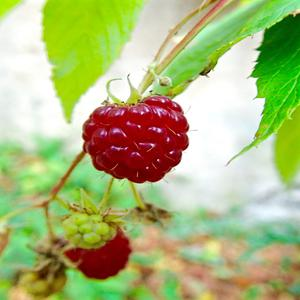raspb: (80, 90, 192, 187)
